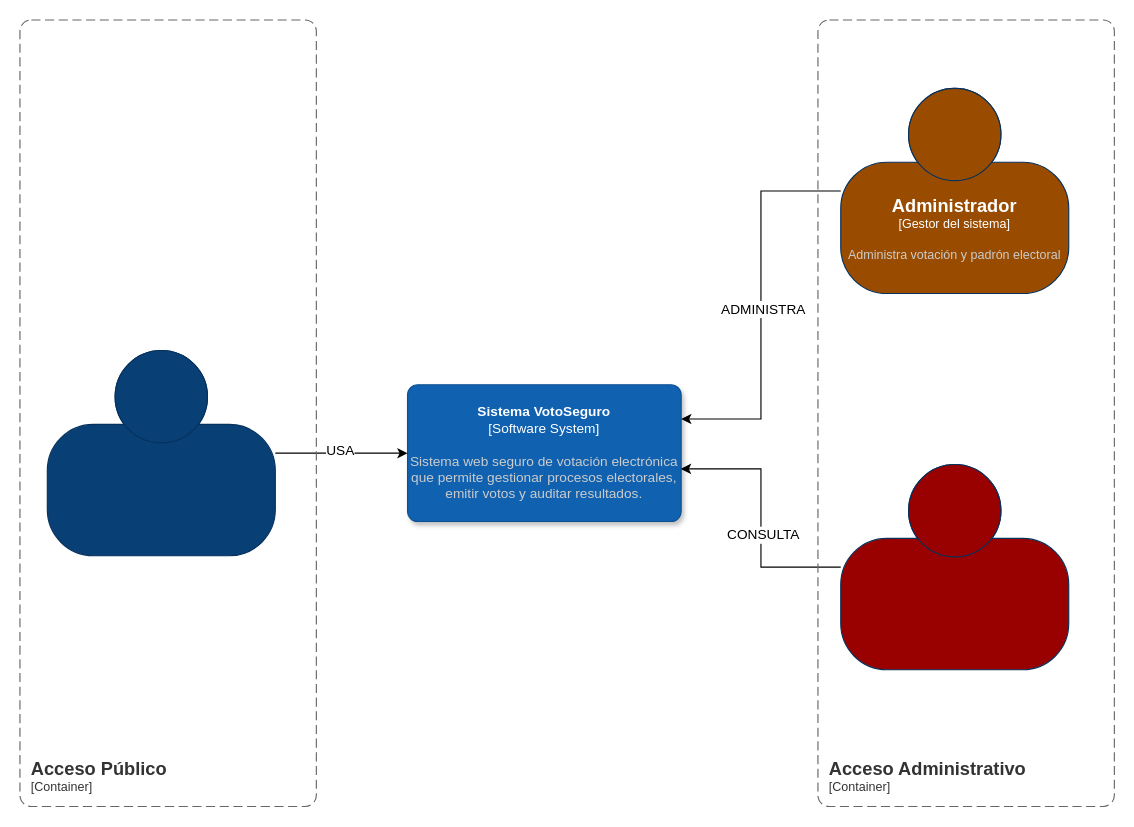
Image size: 1134x827. Some labels were removed from this diagram. The centre of each missing label's shape, as x and y in pixels:
"Auditor [Fiscalizador] Consulta auditorías y logs" goes at (x=954, y=566).
"Votante [Usuario final] Se autentica y emite votos" goes at (x=160, y=452).
